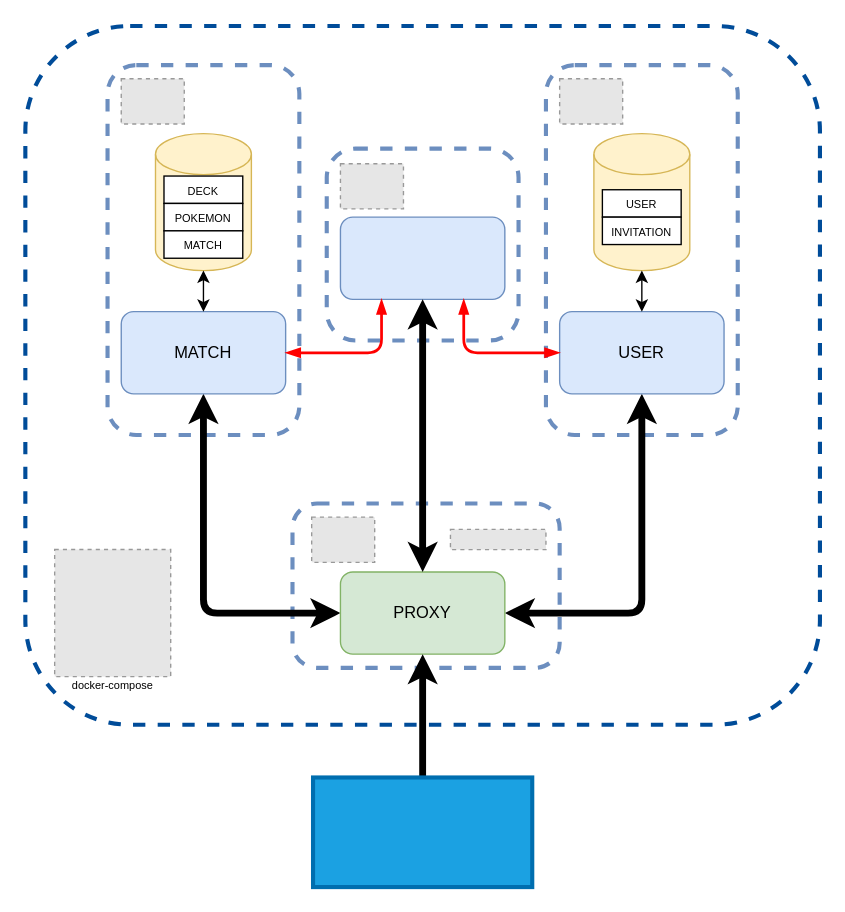
This 845x912 diagram has some shape labels left out. Grey dashed boxes stand in for pictures. Here are the shapes that lost their labels. From the top down, the centre of each, then its label:
At [422,257]: "AUTH".
At [422,831]: "EXTERNAL API".
